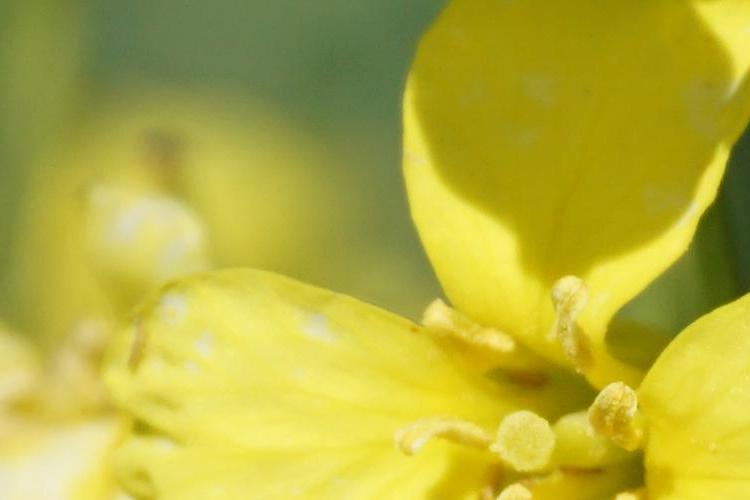yellow: (99, 5, 750, 498)
